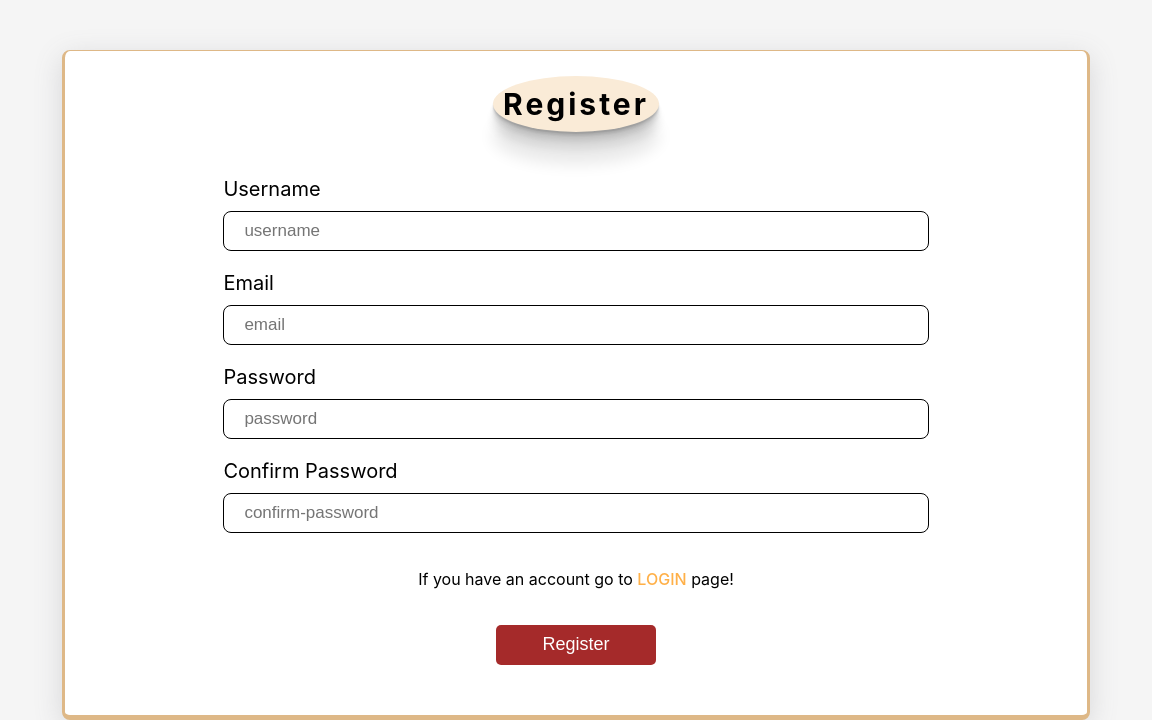
Test: Register Component › Renders error for both password and repass if shortern than 6 characters
In the password field with test id "password": coordinates (576, 419) x1=223 y1=399 x2=929 y2=439, type "12345"
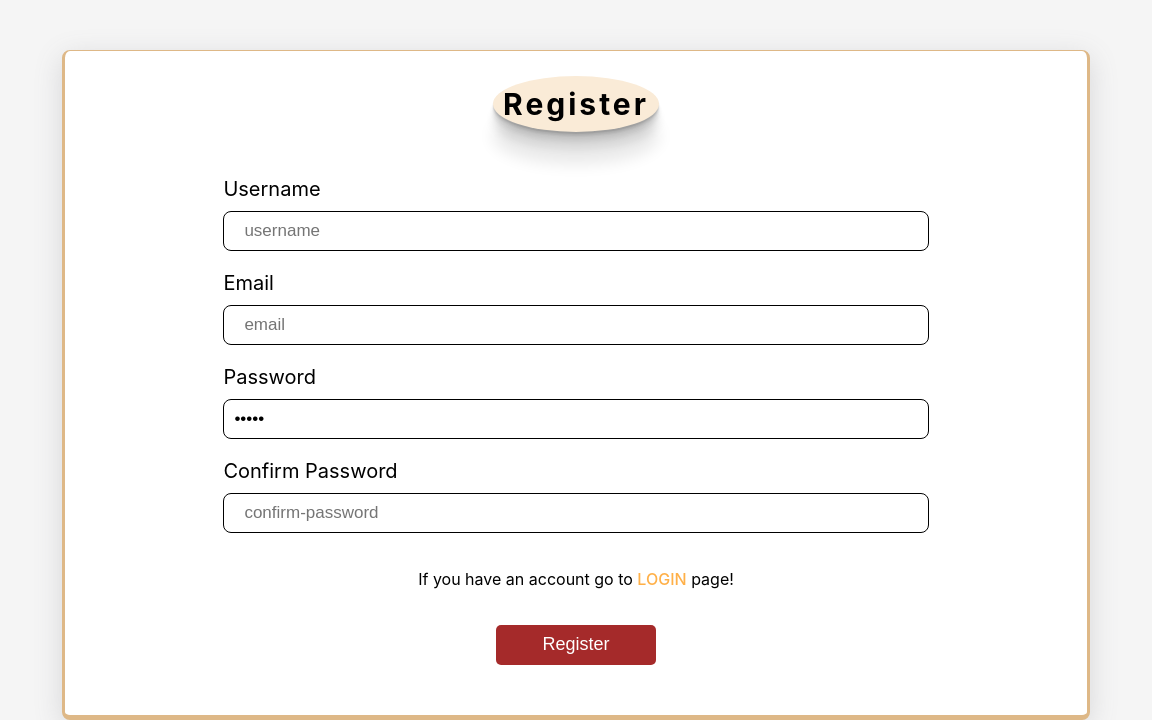
Leave the password field with test id "password", box x1=223 y1=399 x2=929 y2=439
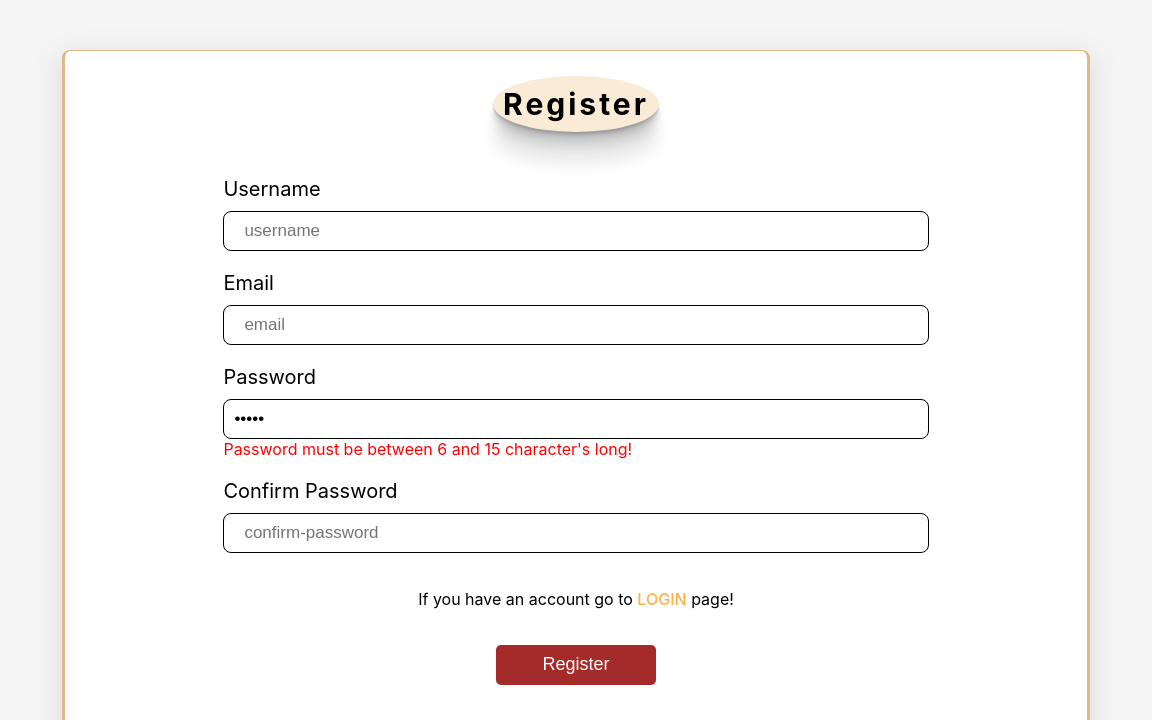
Check: the text "Password must be between 6 and 15 character's long!" is shown, box x1=223 y1=439 x2=632 y2=459
In the password field with test id "password": coordinates (576, 419) x1=223 y1=399 x2=929 y2=439, type "1234567890123456"
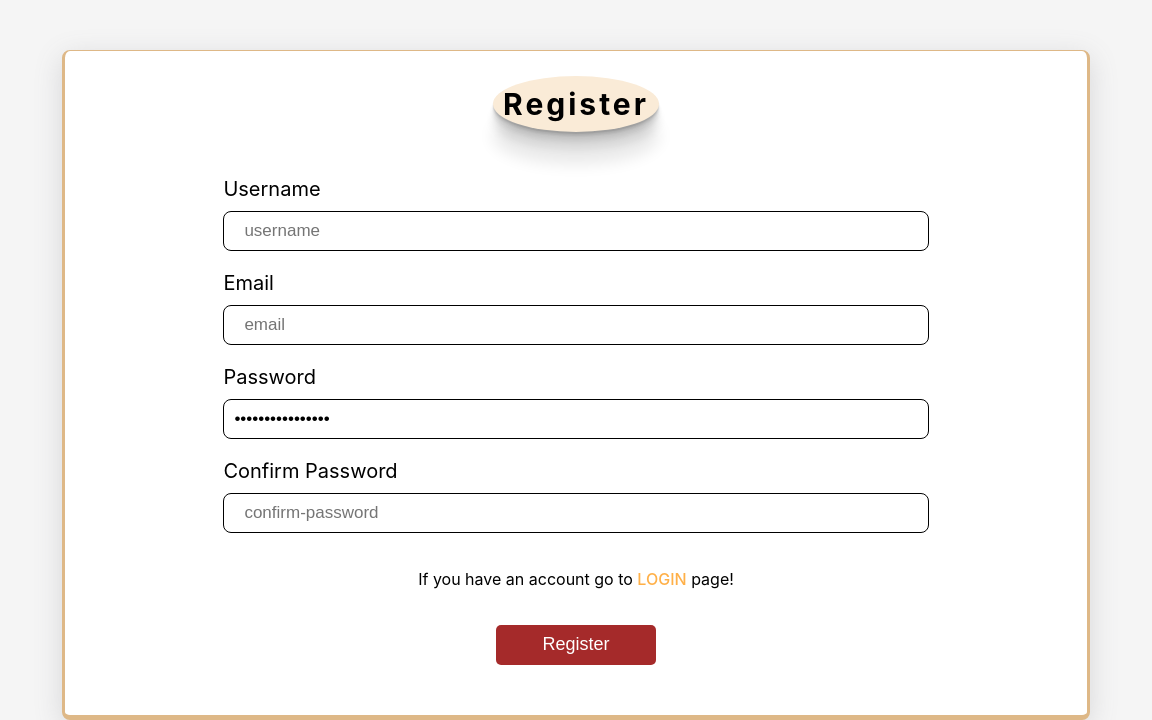
Leave the password field with test id "password", box x1=223 y1=399 x2=929 y2=439
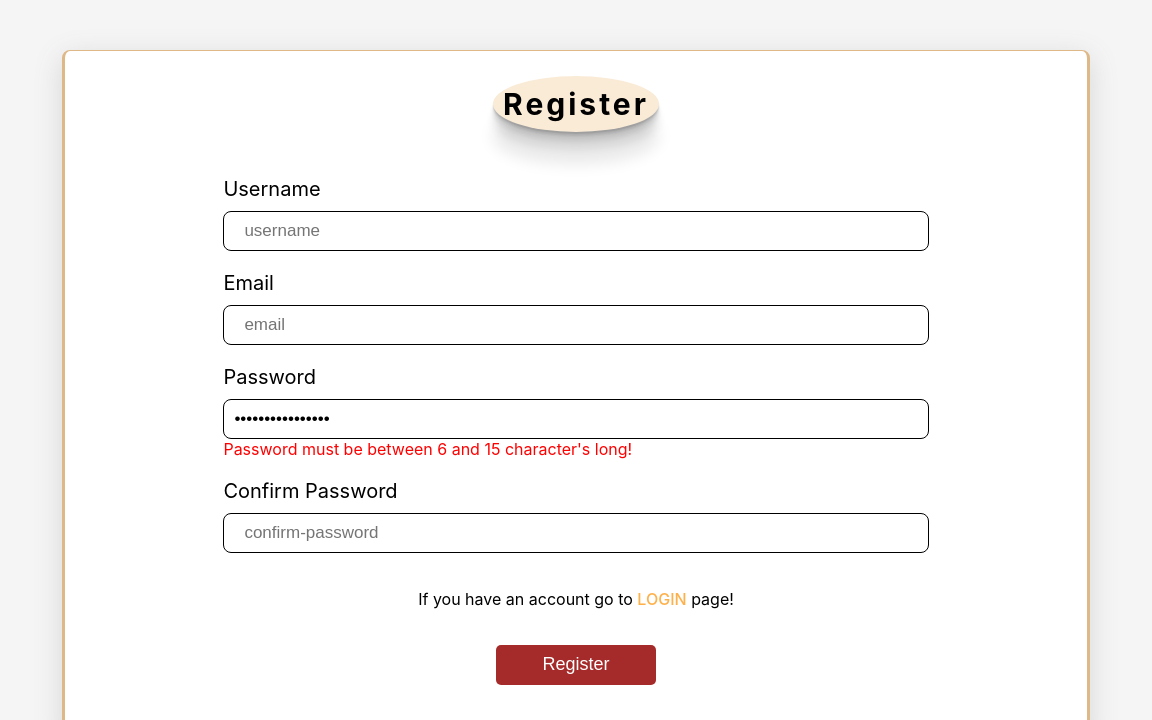
Check: the text "Password must be between 6 and 15 character's long!" is shown, box x1=223 y1=439 x2=632 y2=459
